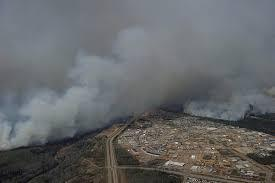smoke: (170, 19, 267, 88), (71, 61, 166, 106), (22, 108, 75, 136)
